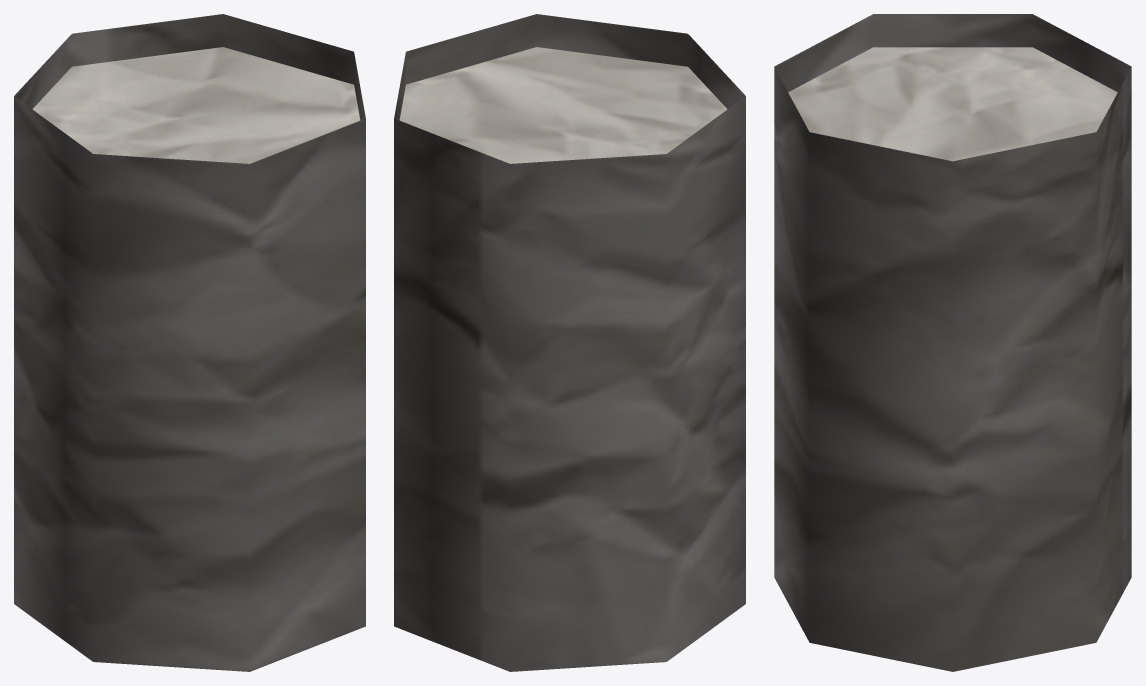
The model's file is oilBarrel.FBX.
3 views of the same model, side by side, from view 1: azimuth 30°, elevation 25°; view 2: azimuth 150°, elevation 25°; view 3: azimuth 270°, elevation 25° (orthographic).
Visible parts, largest first — view 1: Cylinder006; view 2: Cylinder006; view 3: Cylinder006.
Part boxes in pixels (x1=…): Cylinder006: x1=14, y1=14, x2=365, y2=671; Cylinder006: x1=394, y1=14, x2=745, y2=671; Cylinder006: x1=774, y1=14, x2=1131, y2=671.
Bounding box in the file's own units: 43.1 × 69.65 × 44.21.
2 materials, 2 textured.
